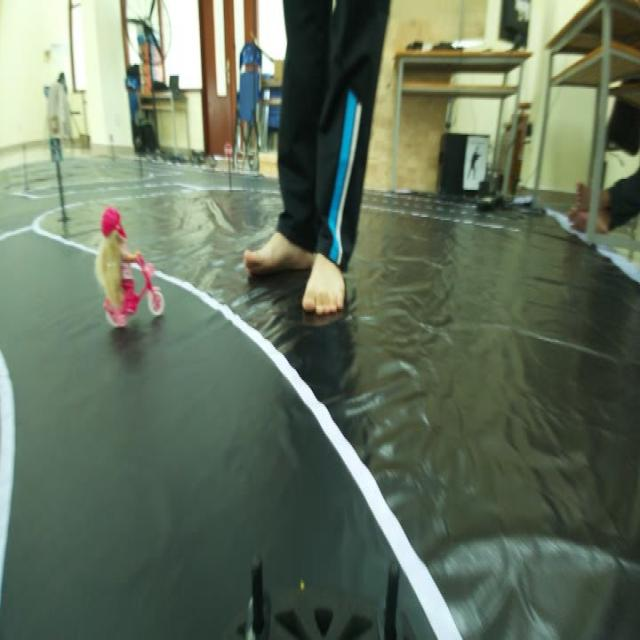pedestrian: (86, 213, 166, 337)
